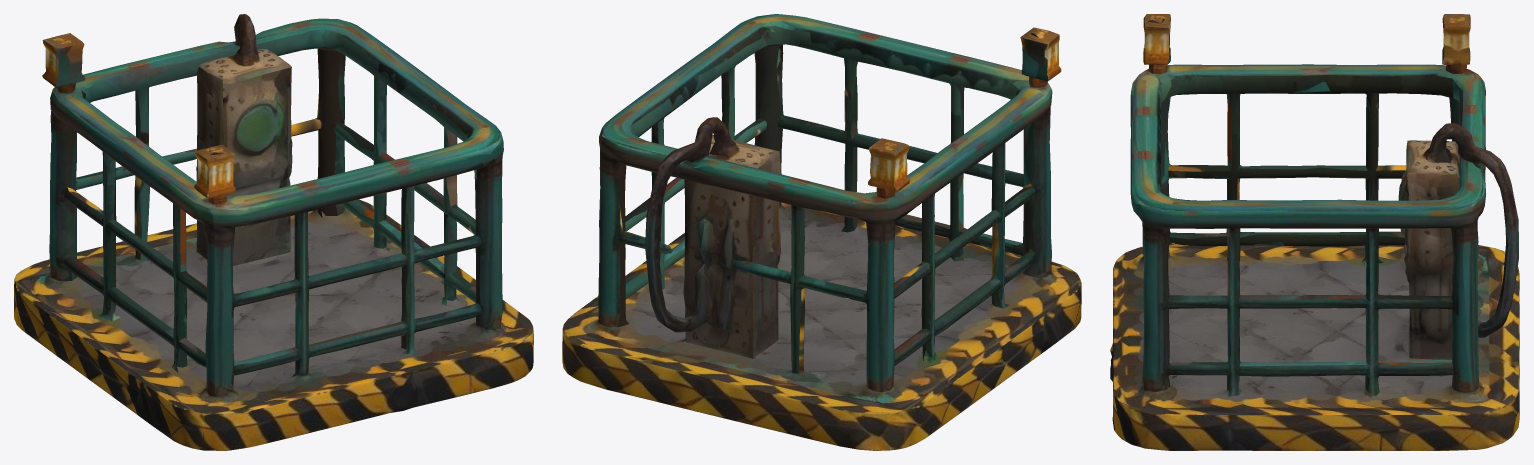
Rendered from lower_lift.glb.
3 renders of one model, left to right at view 1: azimuth 30°, elevation 25°; view 2: azimuth 150°, elevation 25°; view 3: azimuth 270°, elevation 25°, orthographic.
Visible parts, largest first — view 1: lower_lift; view 2: lower_lift; view 3: lower_lift.
Part boxes in pixels (x1,y1,x2,y2): lower_lift: (14, 14, 533, 450); lower_lift: (562, 14, 1081, 450); lower_lift: (1110, 14, 1519, 450).
Bounding box in the file's own units: 1 × 0.7621 × 0.9981.
Materials: 1 (1 with a texture image).
